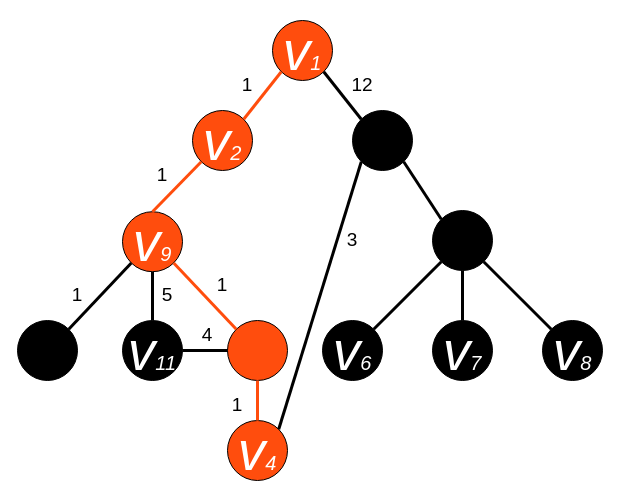
Some shapes in this 620 by 500 pixel diagram are drawn without their labels. The shapes that lost their labels are listed below. From the top down, each one's centre as x and y in pixels, then its label:
At pixel 382 140: "v 3".
At pixel 462 240: "v 5".
At pixel 47 350: "v 10".
At pixel 257 350: "v 12".
